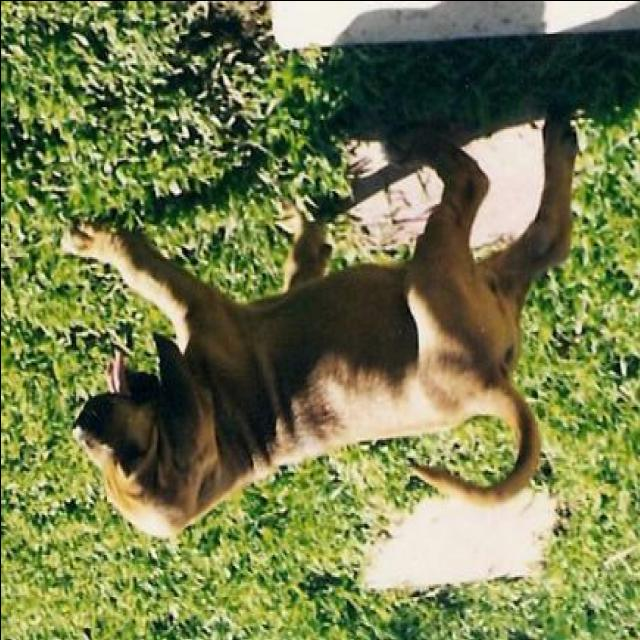bloodhound: (60, 98, 580, 540)
